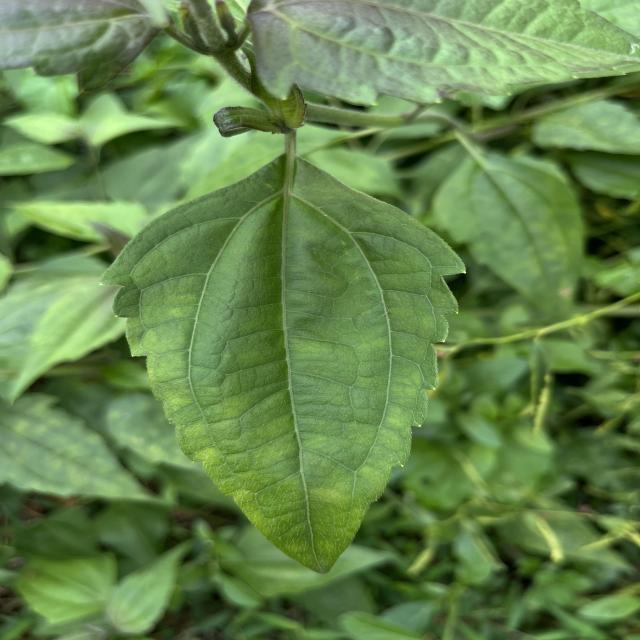Chromolaena odorata: (80, 130, 480, 582)
